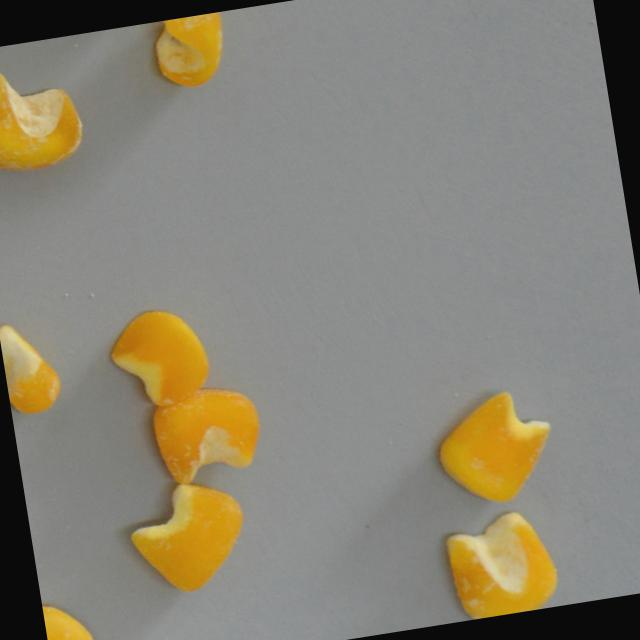no_canjicado: (429, 387, 563, 513), (122, 477, 254, 602), (148, 384, 267, 489), (104, 304, 214, 413)
pelicula: (442, 508, 564, 622), (0, 59, 90, 176), (148, 12, 232, 93), (0, 319, 66, 419), (41, 596, 98, 640)
